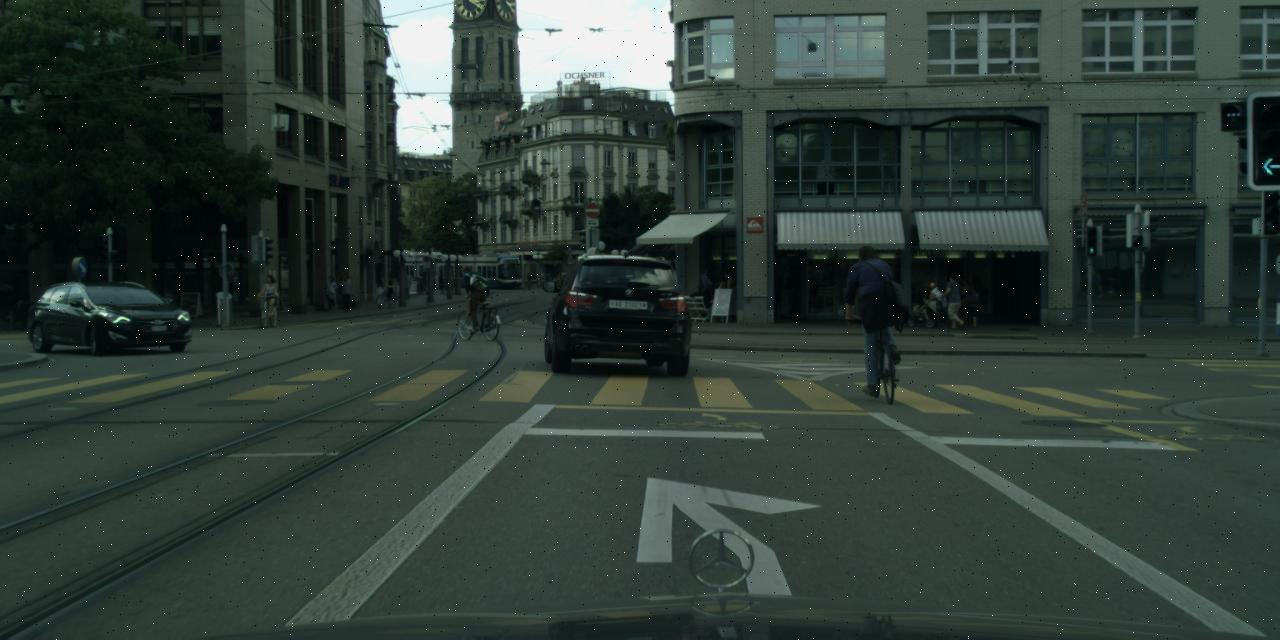ped: (849, 245, 902, 376), (690, 268, 734, 308), (462, 265, 488, 326), (944, 273, 966, 326), (956, 276, 976, 326), (260, 274, 278, 318), (338, 273, 353, 311), (324, 275, 338, 310), (374, 278, 386, 307), (384, 280, 396, 308), (438, 278, 444, 292)
